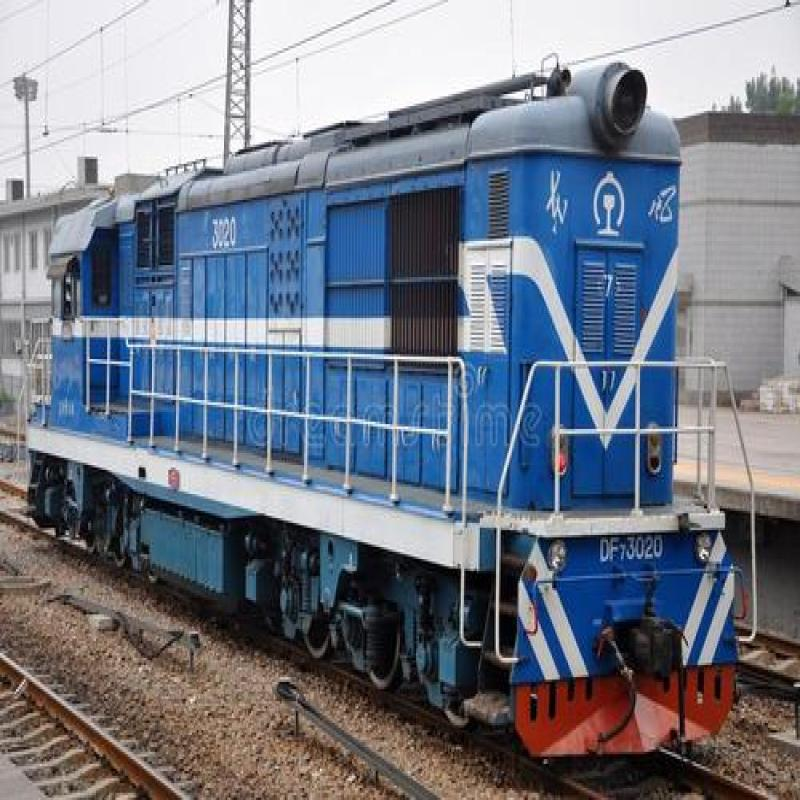train: (14, 18, 758, 777)
